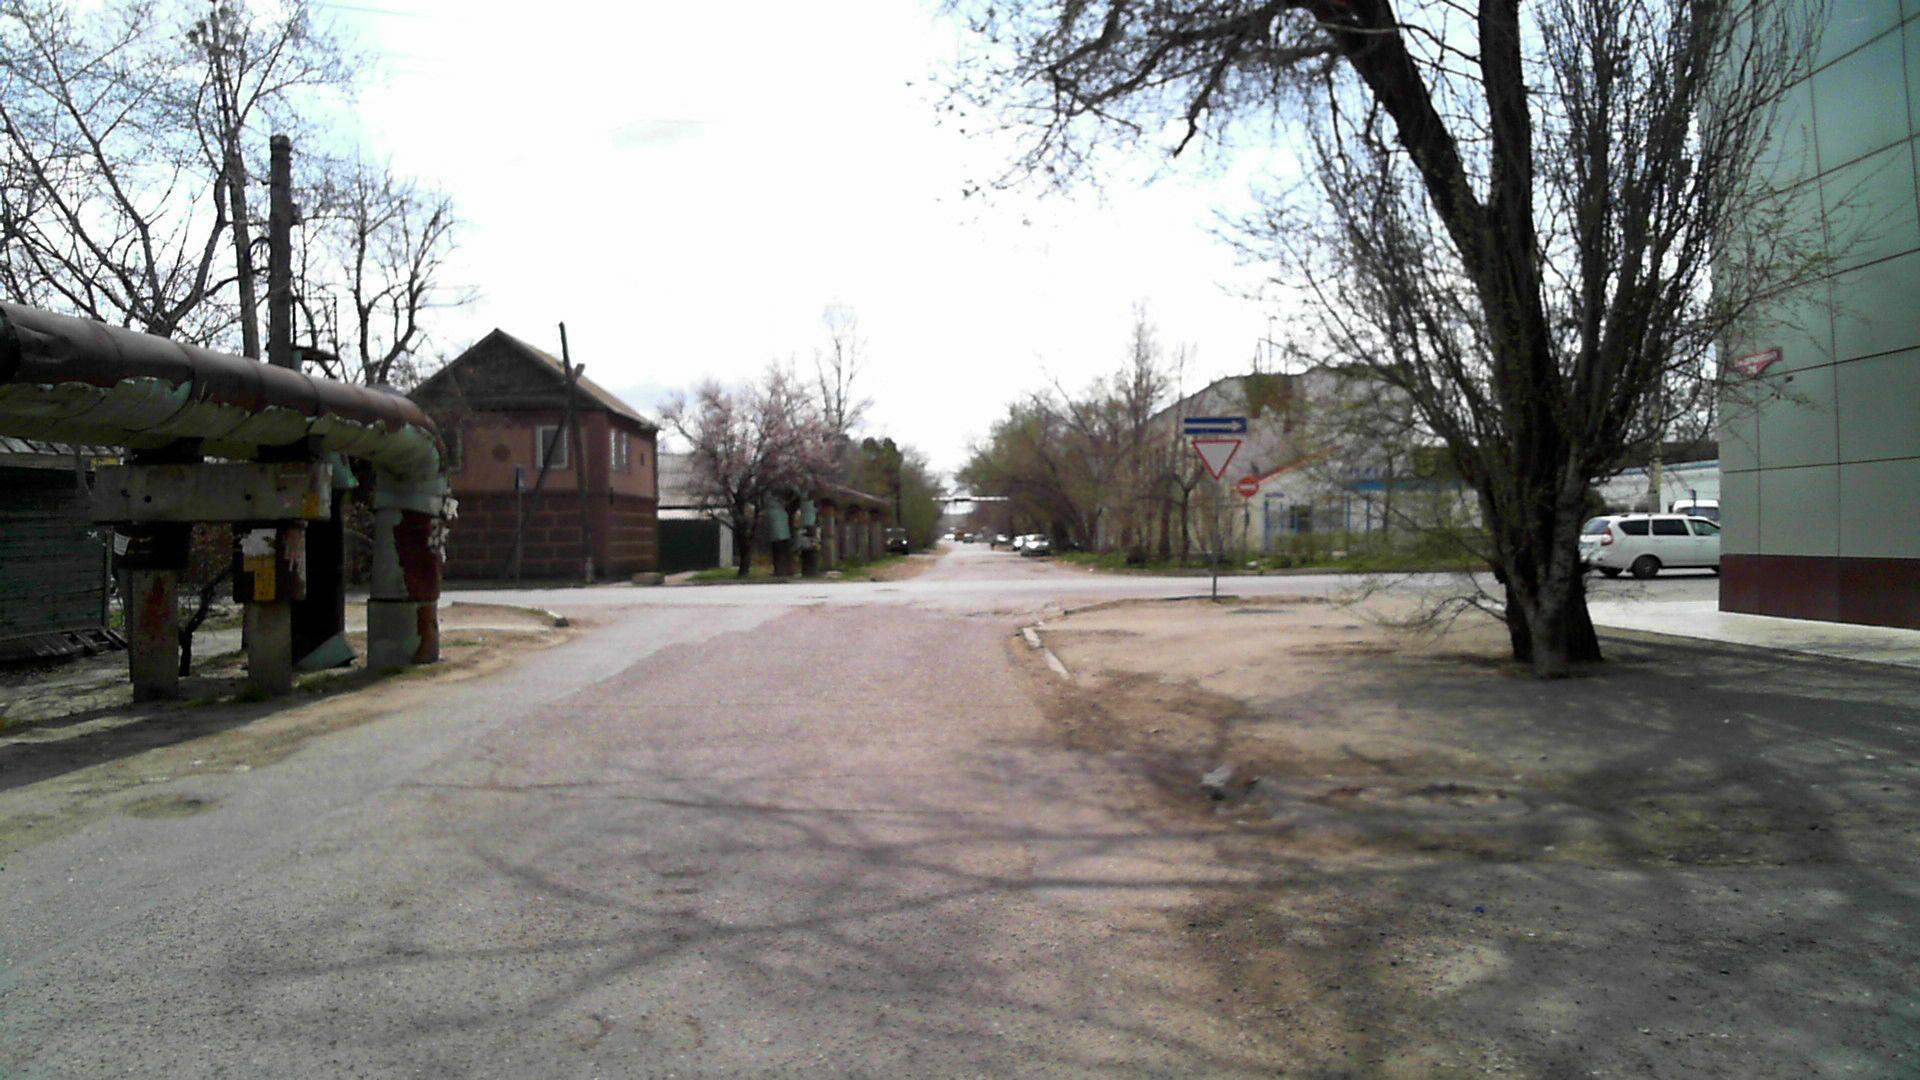2_4: (1189, 438, 1242, 481)
3_1: (1236, 476, 1261, 498)
5_7_1: (1182, 415, 1247, 435)
